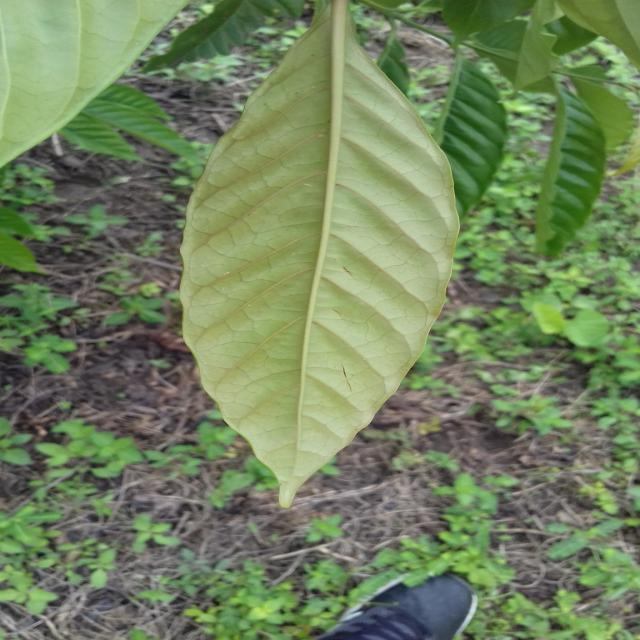Sanas: (179, 0, 462, 511)
